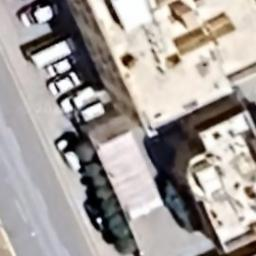SUV: (50, 132, 88, 174), (55, 86, 101, 114)
sedan: (43, 69, 94, 96), (15, 0, 62, 28), (42, 55, 88, 77), (92, 122, 92, 131)
truck: (20, 36, 82, 70)
van: (76, 100, 113, 130)
